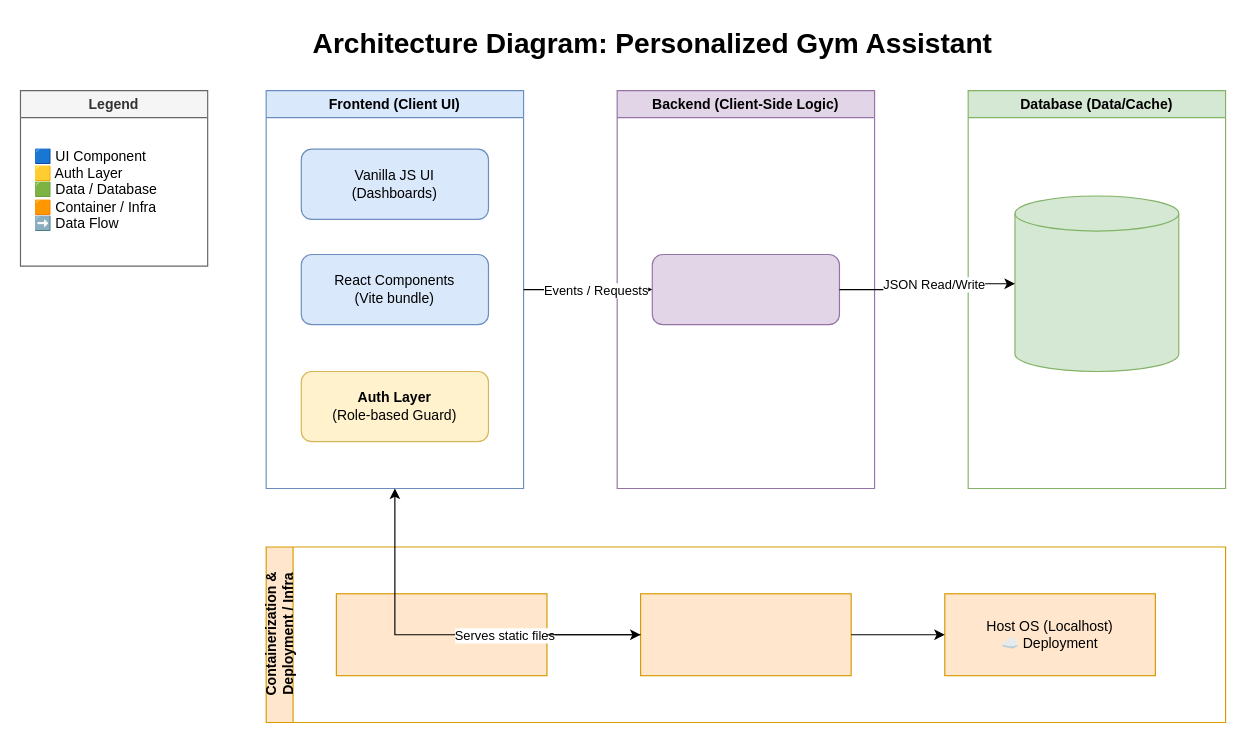
Some shapes in this 1246 by 743 pixel diagram are drawn without their labels. Each missing label, with the centre of its shape:
Browser LocalStorage 🗄️ JSON Cache (Users, Plans, News): the point at 1096,283
Docker Container 🐳 Containerization: the point at 441,634
JS Controllers (Data Management): the point at 745,289
Nginx Web Server 🌐 Port 80: the point at 745,634
